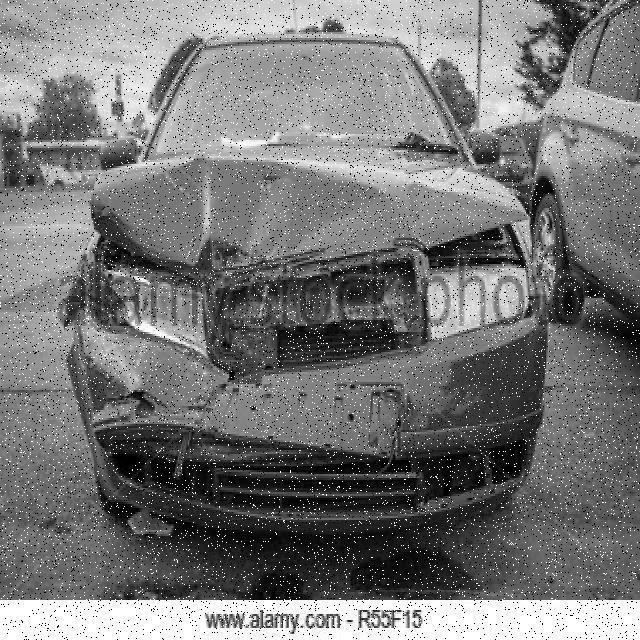bonnet-dent: (87, 162, 523, 278)
front-bumper-dent: (57, 328, 532, 502)
